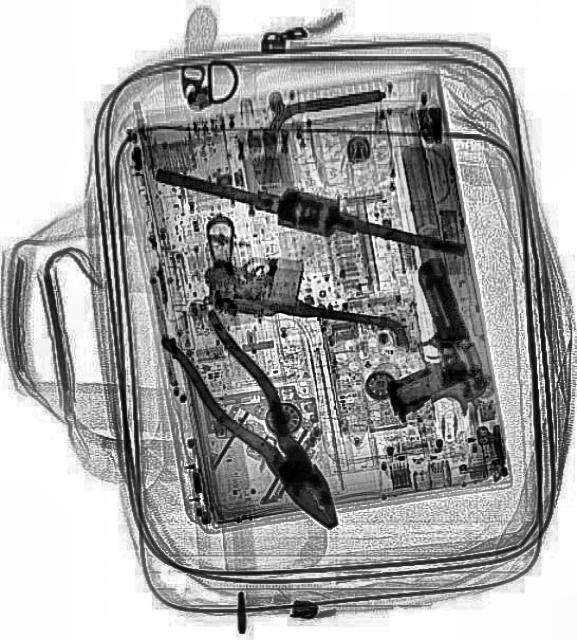Gun: (350, 252, 498, 434), (192, 212, 394, 334)
Pliers: (159, 304, 363, 546)
